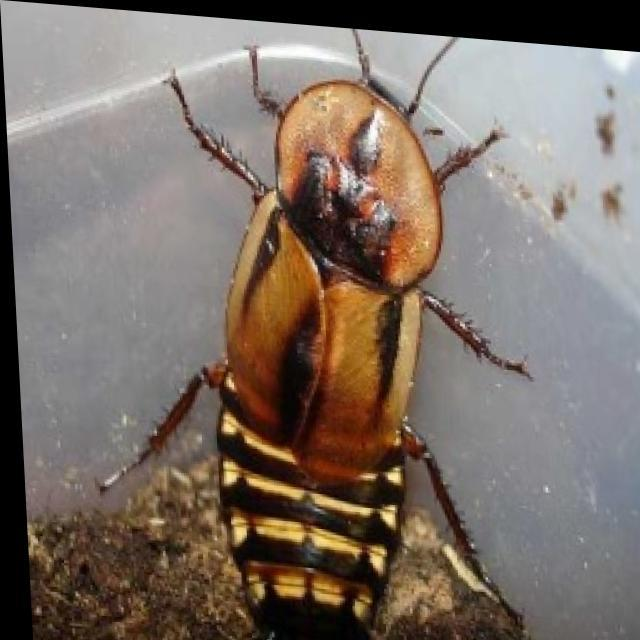cockroach: (93, 30, 539, 638)
